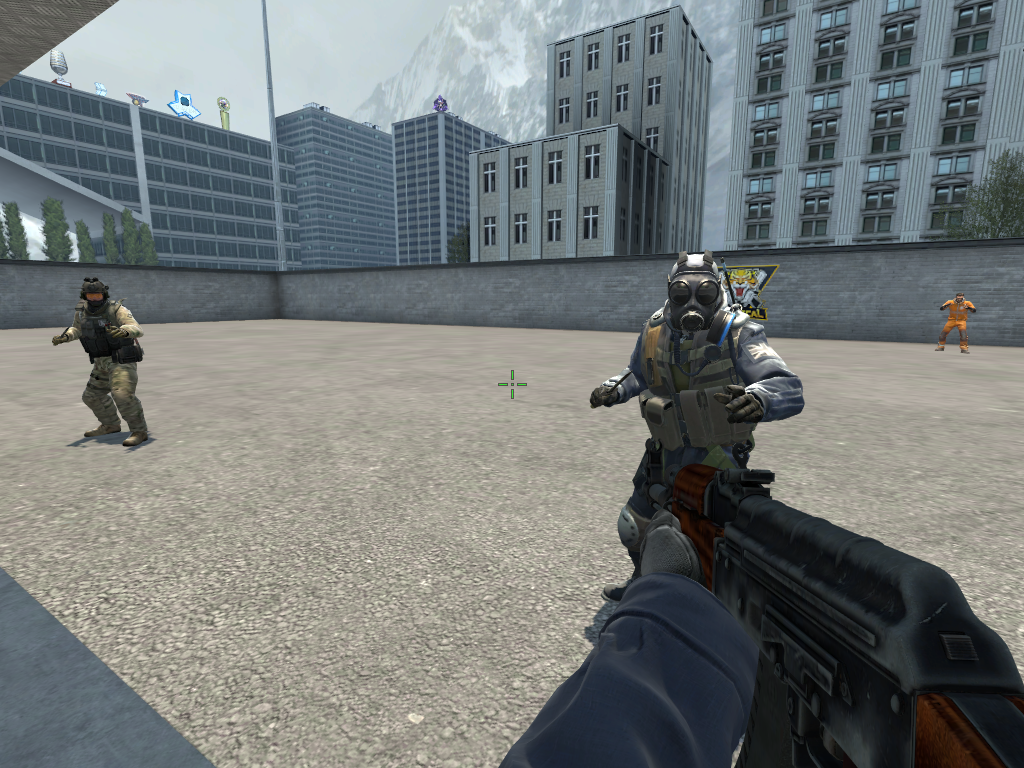ct head: (668, 258, 721, 328), (83, 281, 106, 309)
tr head: (956, 293, 964, 303)
